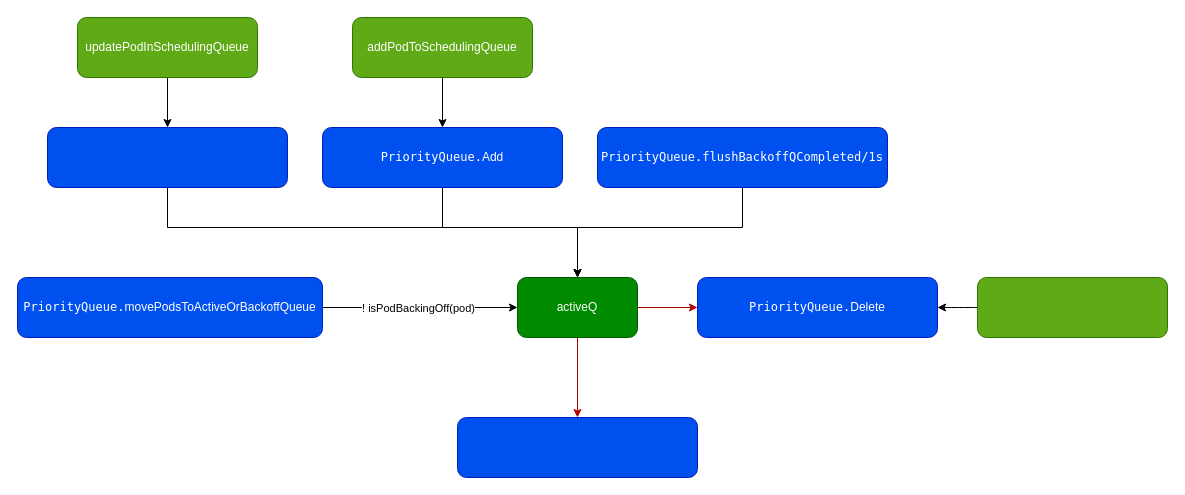
This 1185x495 diagram has some shape labels left out. Here are the shapes that lost their labels. From the top down, the centre of each, then its label:
At point 167,157: "PriorityQueue. Update".
At point 1072,307: "deletePodFromSchedulingQueue".
At point 577,447: "PriorityQueue.Pop".
